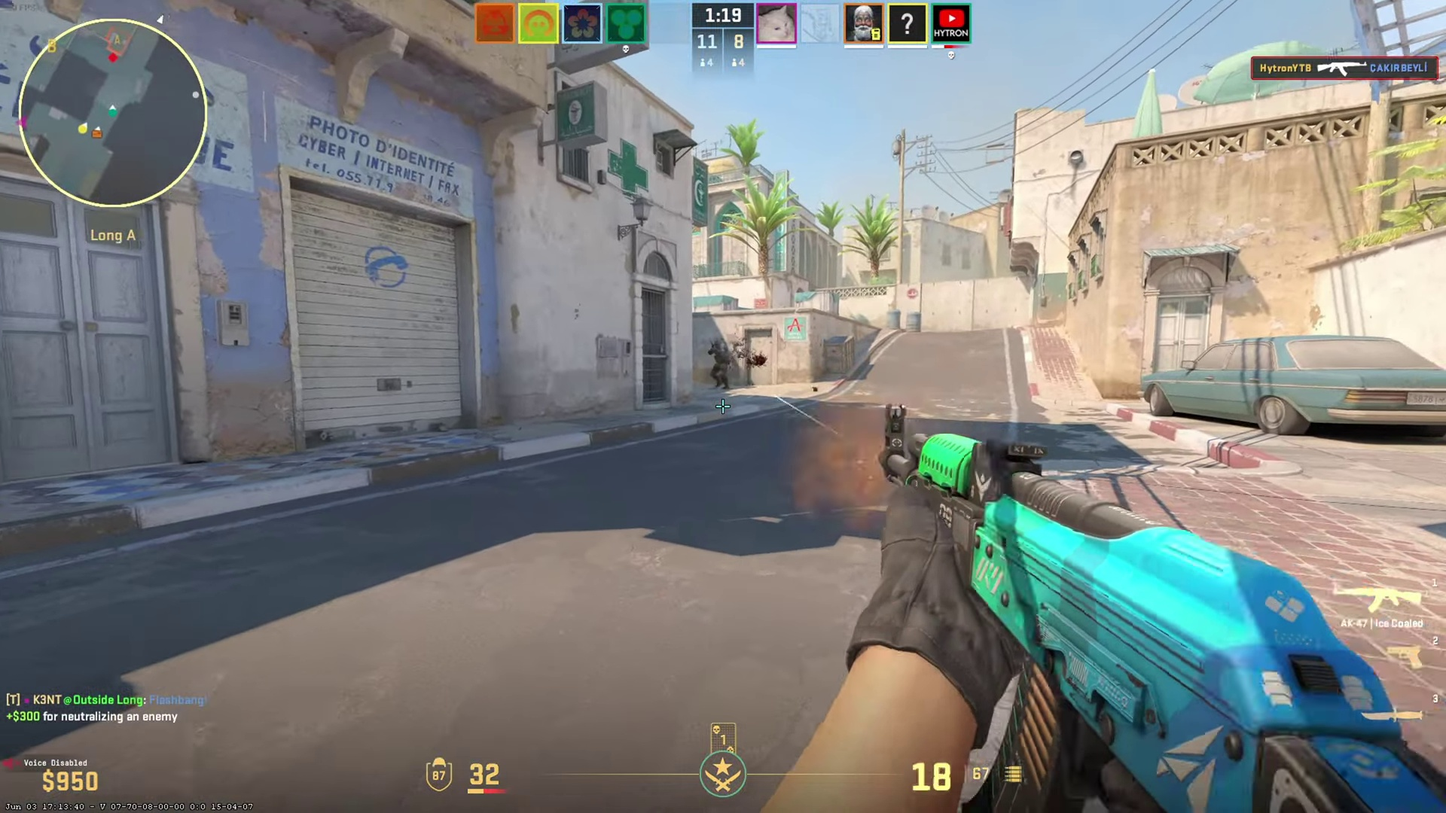CT: (710, 340, 730, 388)
